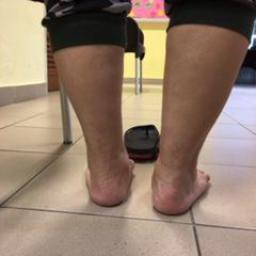Back View -Both Feet-: (68, 124, 220, 231)
